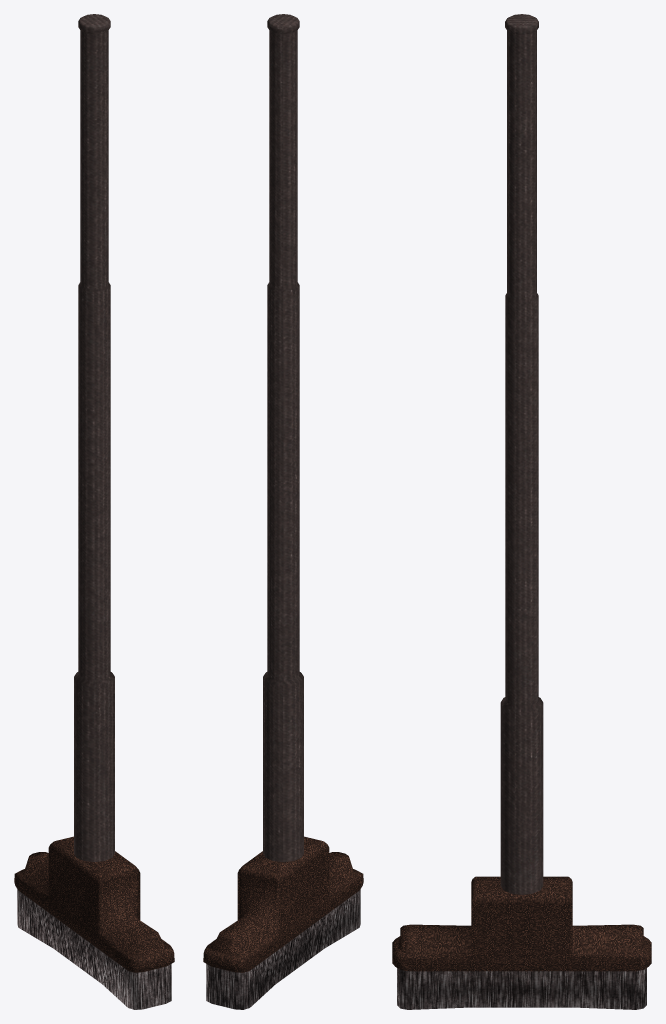
File: Mop.fbx
3 renders of one model, left to right at view 1: azimuth 30°, elevation 25°; view 2: azimuth 150°, elevation 25°; view 3: azimuth 270°, elevation 25°, orthographic. The views are drawn at different scales.
Visible parts, largest first — view 1: Mop; view 2: Mop; view 3: Mop.
Boxes of the visible parts, x1=… form: Mop: x1=14, y1=14, x2=174, y2=1009; Mop: x1=203, y1=14, x2=363, y2=1009; Mop: x1=392, y1=14, x2=651, y2=1009.
Size of the model in its own units: 7.58 by 154 by 36.99.
Materials: 1 (1 with a texture image).
